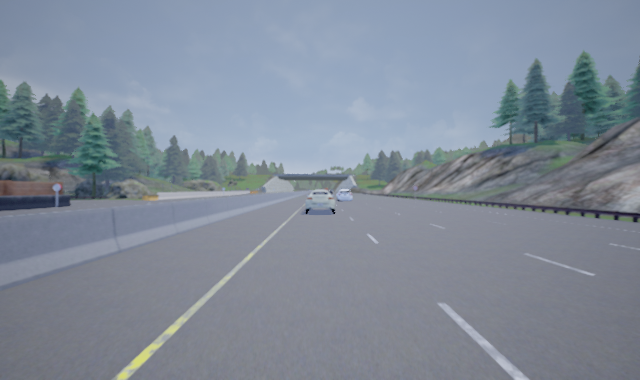vehicle: (304, 189, 336, 214), (335, 189, 352, 202)
